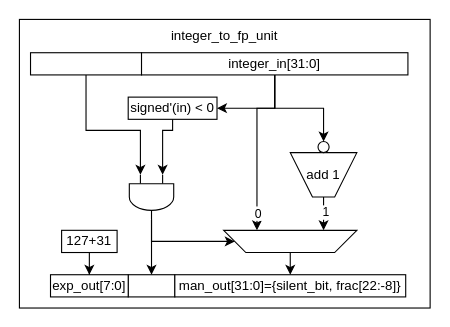
Image size: 450x327. Some labels were removed from this diagram. The shapes that lost their labels are listed below. From the top down, each one's centre as x and y in pixels, then its label:
point 85,63: integer_is_signed
point 290,241: MUX
point 151,285: sig_out
